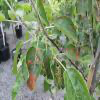Apple rust leaf: (24, 45, 44, 93), (53, 14, 82, 45), (43, 47, 56, 82), (65, 44, 83, 64), (75, 0, 89, 20)
